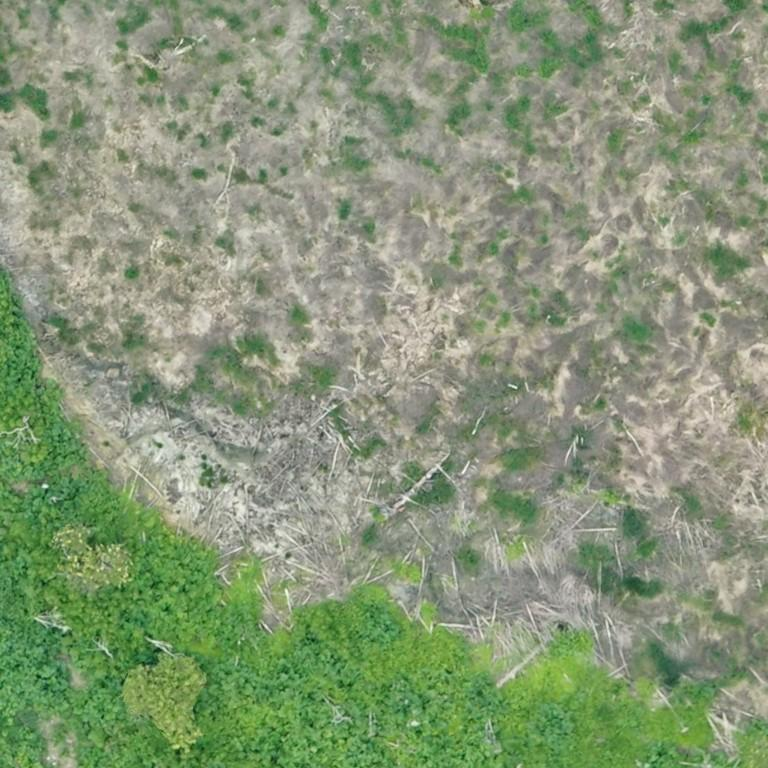hogweed: (0, 555, 578, 767), (97, 540, 230, 642), (0, 272, 41, 415), (25, 420, 87, 476), (26, 480, 88, 516), (363, 605, 402, 643), (647, 745, 676, 767)
